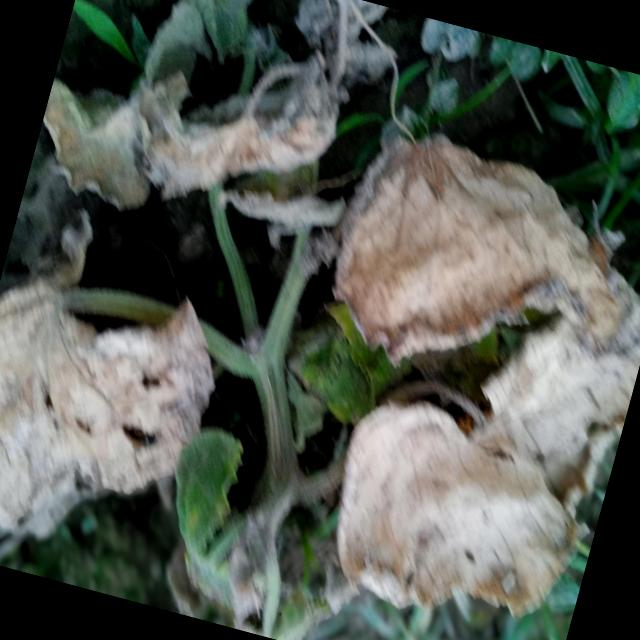cucumber_bacterial: (314, 104, 640, 442), (261, 381, 613, 640), (0, 265, 238, 585), (104, 0, 365, 240)
